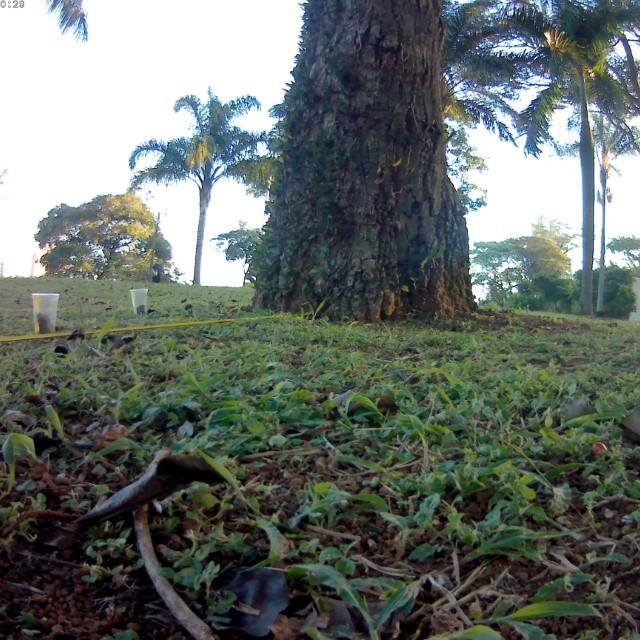arvore: (247, 0, 492, 329)
